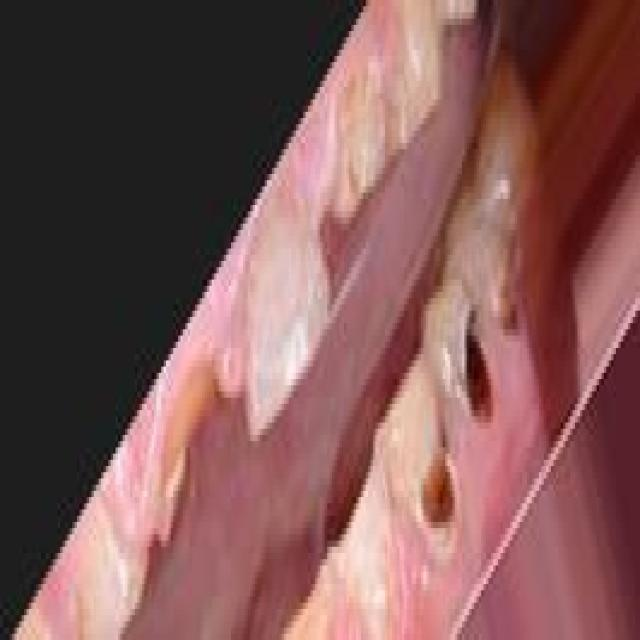caries: (154, 362, 234, 560), (382, 367, 458, 571), (331, 58, 398, 229), (445, 280, 501, 440), (481, 200, 536, 346)
